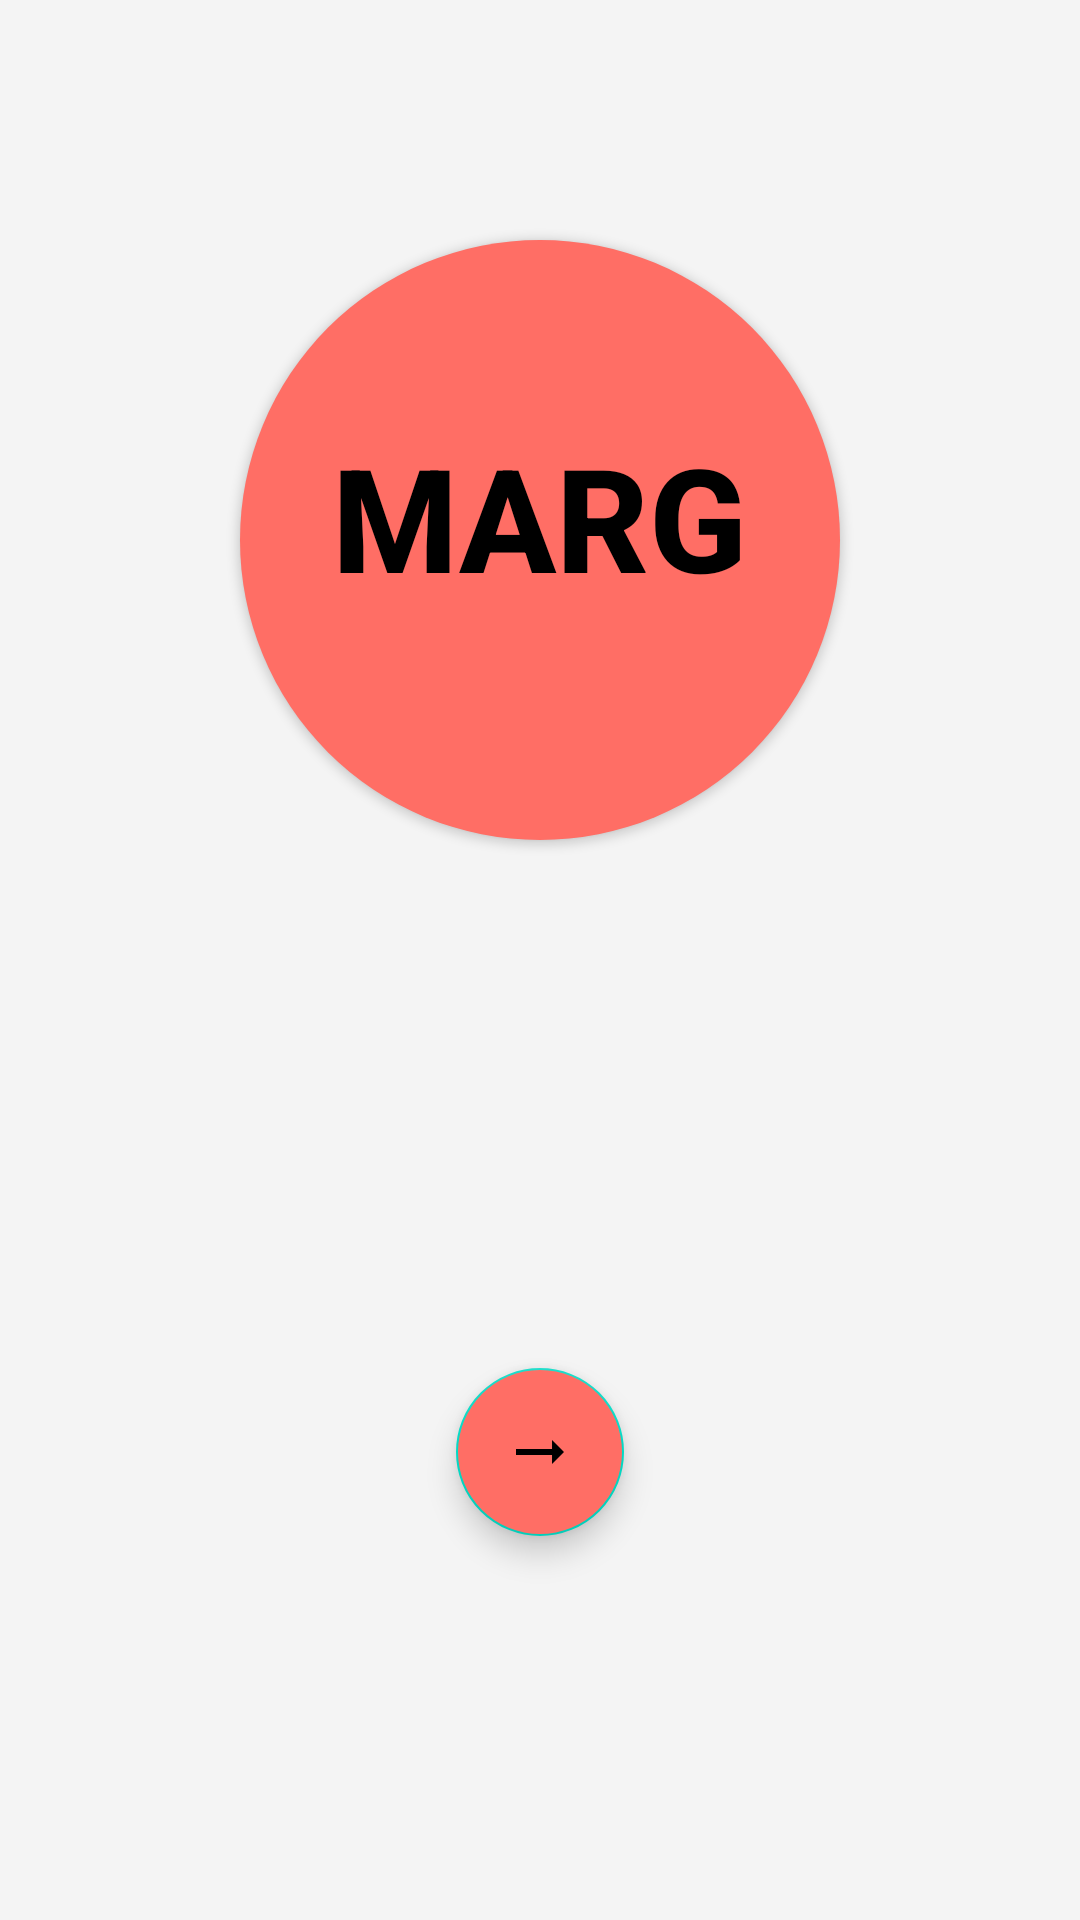

Where icons sit on this 1080 x 1920 app screen, as (x1, y1, x2, y2):
right: (456, 1368, 624, 1536)
